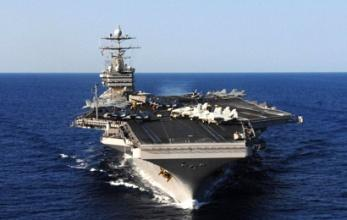warship: (73, 20, 303, 199)
